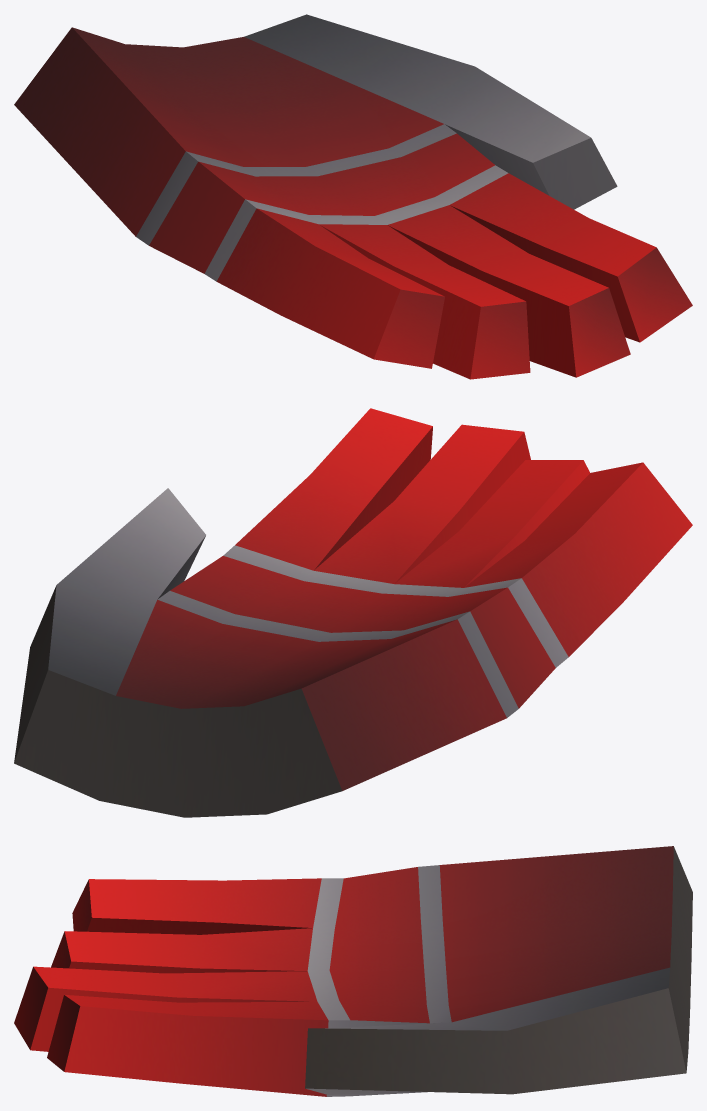
File: Hand_Left_Default.FBX
3 renders of one model, top to bottom at view 1: azimuth 30°, elevation 25°; view 2: azimuth 150°, elevation 25°; view 3: azimuth 270°, elevation 25°, orthographic. The views are drawn at different scales.
Visible parts, largest first — view 1: Hand_Left_Default; view 2: Hand_Left_Default; view 3: Hand_Left_Default.
Part boxes in pixels (x1,y1,x2,y2): Hand_Left_Default: (14,14,692,379); Hand_Left_Default: (14,408,692,817); Hand_Left_Default: (14,846,692,1096).
Size of the model in its own units: 0.7012 by 0.2728 by 1.11.
Materials: 1 (1 with a texture image).
